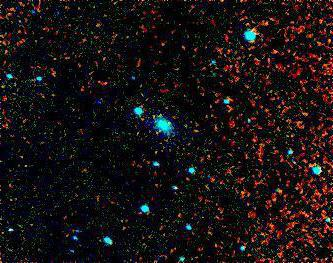star: (136, 120, 166, 150)
